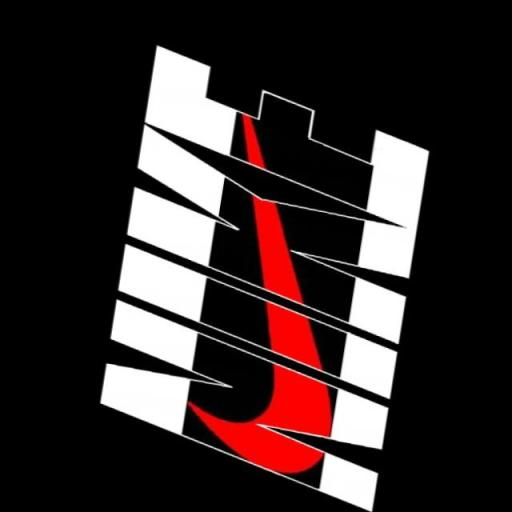Nike: (80, 33, 458, 512)
